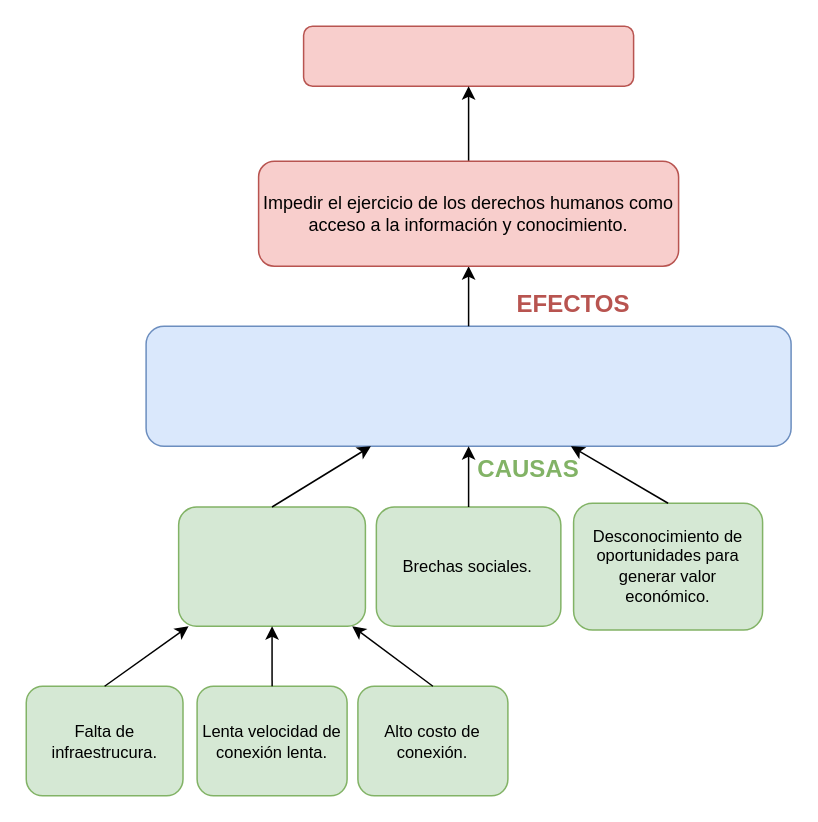
Some shapes in this 818 by 822 pixel diagram are drawn without their labels. Each missing label, with the centre of its shape:
"Brecha digital, carencia de habilidades digitales básicas en el área rural." goes at (x=468, y=385).
"Brecha territorial e ingresos económicos." goes at (x=271, y=566).
"Desigualdades generadas por brechas digitales en el país." goes at (x=468, y=55).
